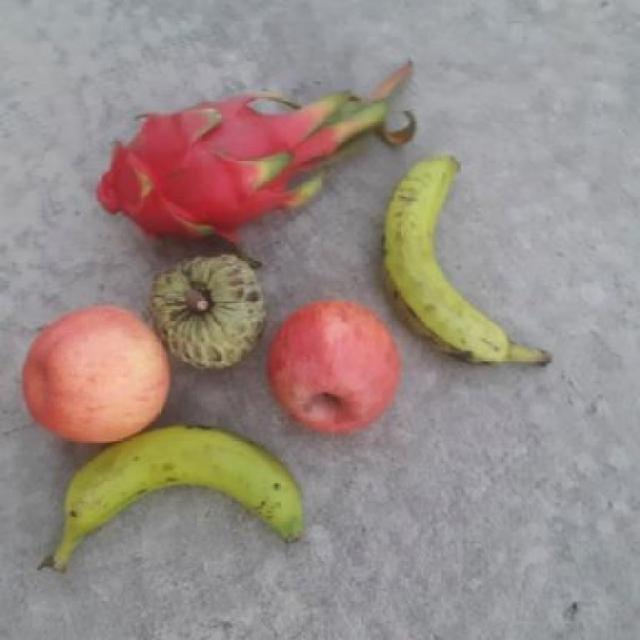apple: (18, 303, 169, 440), (261, 295, 397, 433)
banana: (378, 148, 560, 365), (58, 420, 317, 568)
dragon fruit: (92, 91, 312, 246)
sugar apple: (144, 247, 261, 370)
